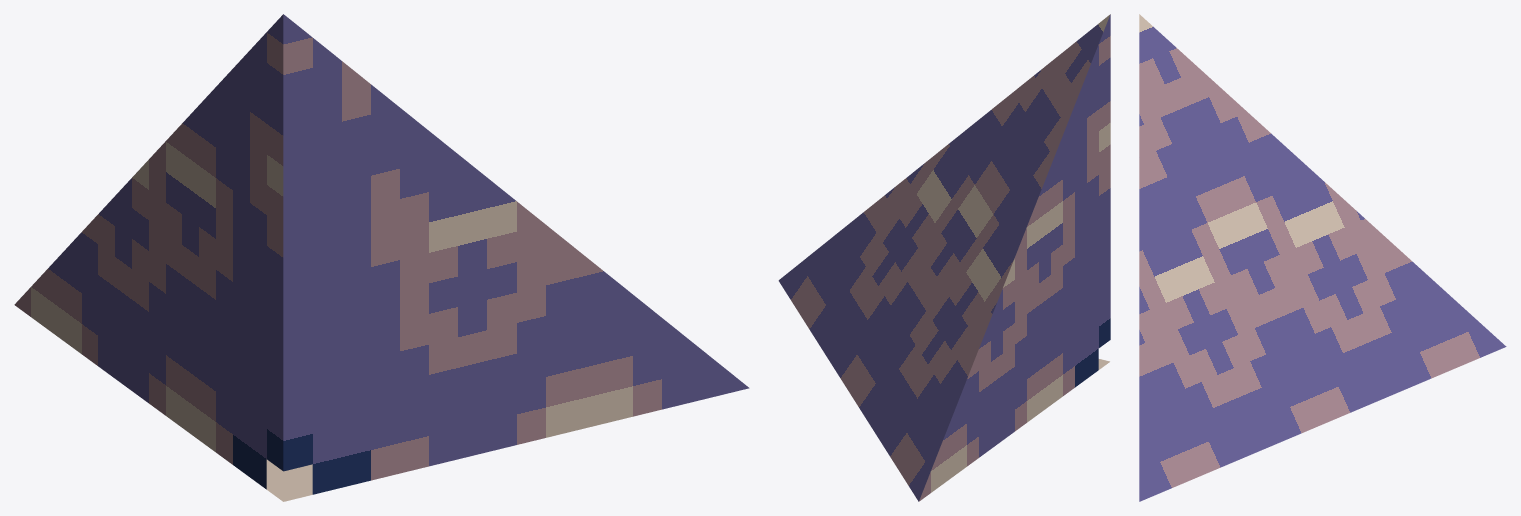
File: CliffCornerTopEdge.gltf
3 renders of one model, left to right at view 1: azimuth 30°, elevation 25°; view 2: azimuth 150°, elevation 25°; view 3: azimuth 270°, elevation 25°, orthographic. The views are drawn at different scales.
Parts seen in each view (by area): view 1: CliffCornerTopEdge; view 2: CliffCornerTopEdge; view 3: CliffCornerTopEdge.
Boxes of the visible parts, x1=… form: CliffCornerTopEdge: x1=14, y1=14, x2=749, y2=501; CliffCornerTopEdge: x1=778, y1=14, x2=1110, y2=501; CliffCornerTopEdge: x1=1139, y1=14, x2=1506, y2=501.
Bounding box in the file's own units: 1 × 1 × 1.
Materials: 1 (1 with a texture image).
